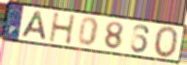0: (78, 16, 100, 49)
6: (130, 24, 150, 54)
8: (104, 21, 126, 50)
A: (20, 10, 47, 42)
H: (48, 12, 77, 45)
O: (153, 26, 180, 60)
